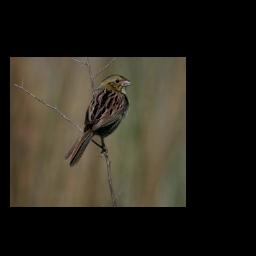Sparrow: (61, 73, 134, 169)
